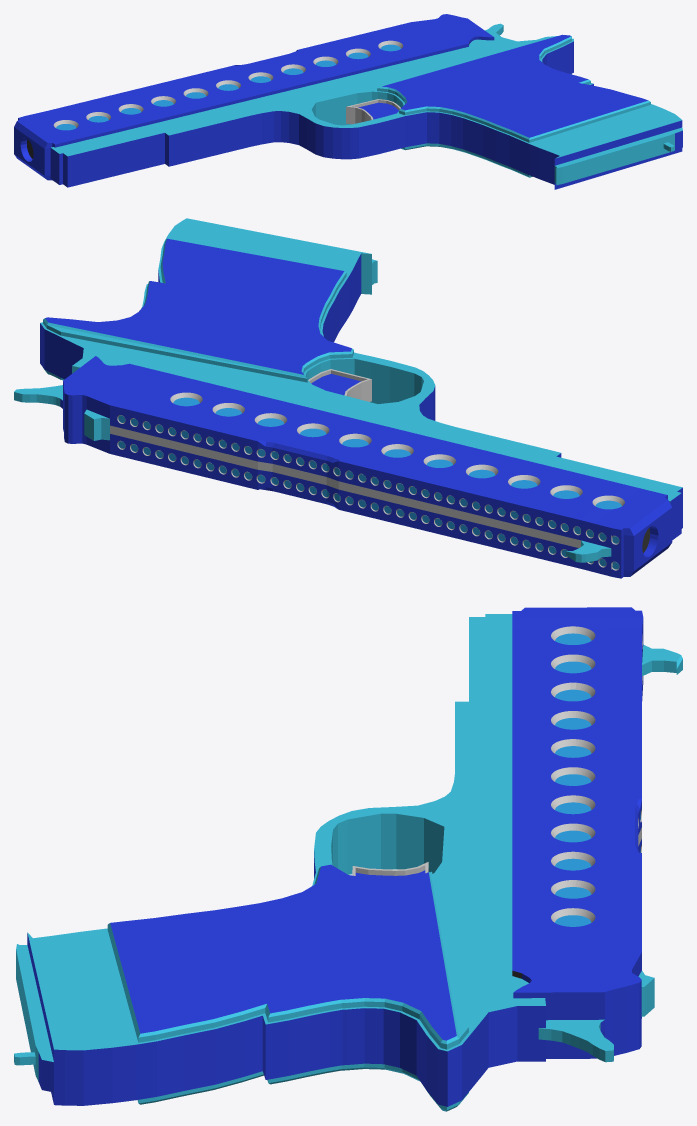
File: ColtPistolWater.fbx
3 renders of one model, top to bottom at view 1: azimuth 30°, elevation 25°; view 2: azimuth 150°, elevation 25°; view 3: azimuth 270°, elevation 25°, orthographic. The views are drawn at different scales.
Parts seen in each view (by area): view 1: Handle, GunShaft; view 2: GunShaft, Handle; view 3: Handle, GunShaft.
Part boxes in pixels (left/top/right/bottom): Handle: left=50, top=31, right=682, bottom=189; GunShaft: left=14, top=14, right=503, bottom=180; GunShaft: left=14, top=356, right=672, bottom=578; Handle: left=40, top=218, right=682, bottom=539; Handle: left=14, top=614, right=545, bottom=1111; GunShaft: left=512, top=607, right=682, bottom=1062.
Size of the model in its own units: 470 by 35.25 by 301.
